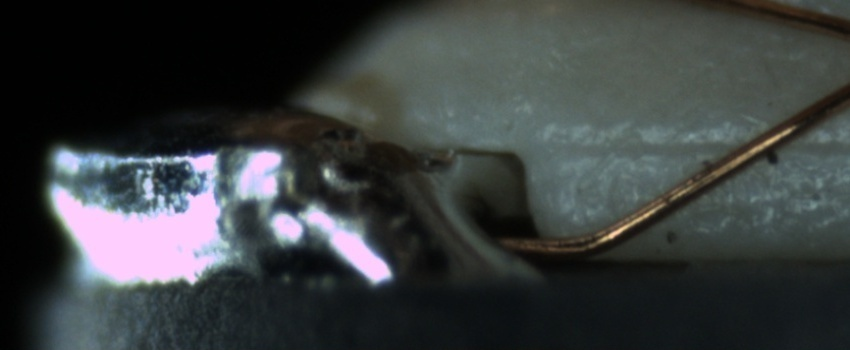DL: (558, 113, 849, 178)
